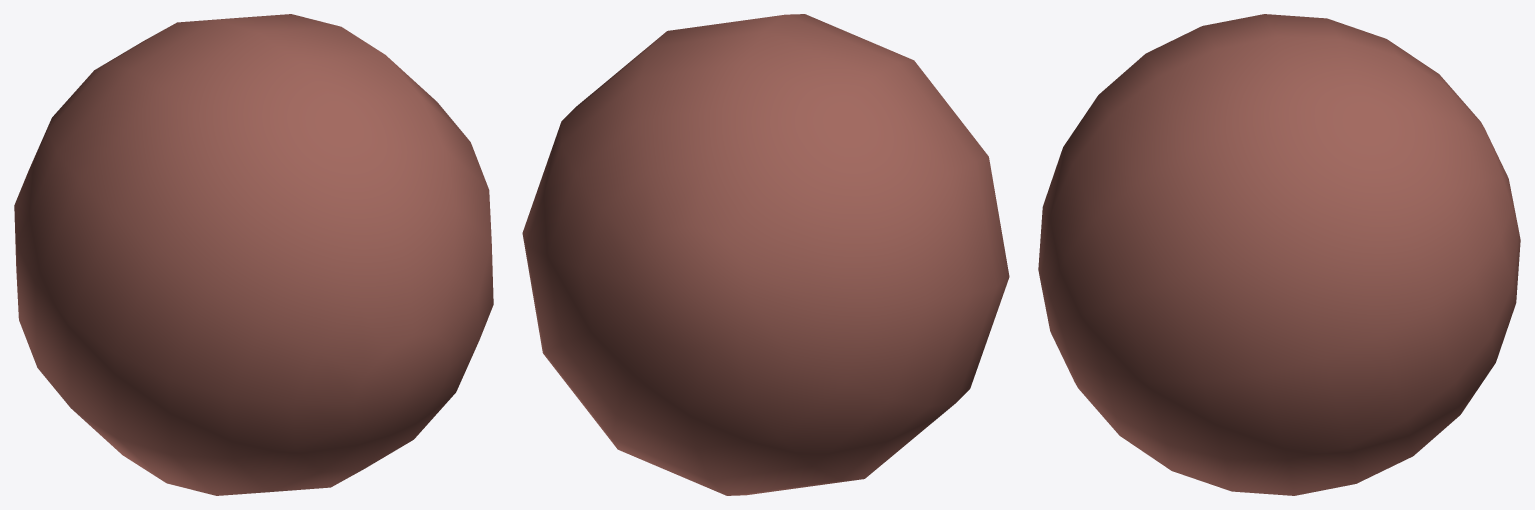
The model's file is mixamo_humanoid_joint_leftHandMiddle3.fbx.
3 renders of one model, left to right at view 1: azimuth 30°, elevation 25°; view 2: azimuth 150°, elevation 25°; view 3: azimuth 270°, elevation 25°, orthographic.
Parts seen in each view (by area): view 1: joint_LeftHandMiddle3; view 2: joint_LeftHandMiddle3; view 3: joint_LeftHandMiddle3.
Boxes of the visible parts, <box> form: joint_LeftHandMiddle3: <box>14,14,493,495</box>; joint_LeftHandMiddle3: <box>522,14,1009,495</box>; joint_LeftHandMiddle3: <box>1038,14,1520,495</box>.
Bounding box in the file's own units: 1.66 × 1.67 × 1.67.
